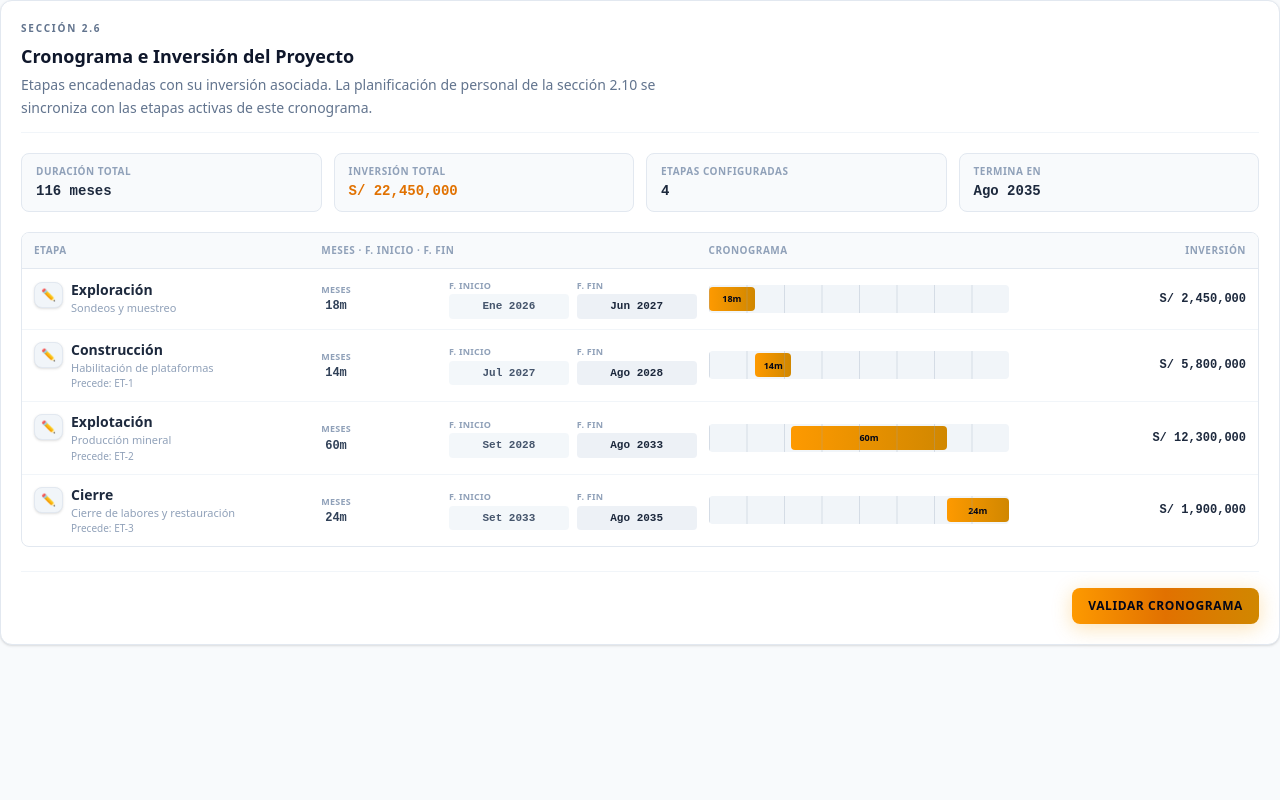
it: CronogramaComponent › fechas calendario › deja la fecha de inicio editable solo en la etapa ancla
The image size is (1280, 800).
Click the button with class "boton-editar" next to "Construcción".
click(48, 354)  # box [34, 342, 63, 368]
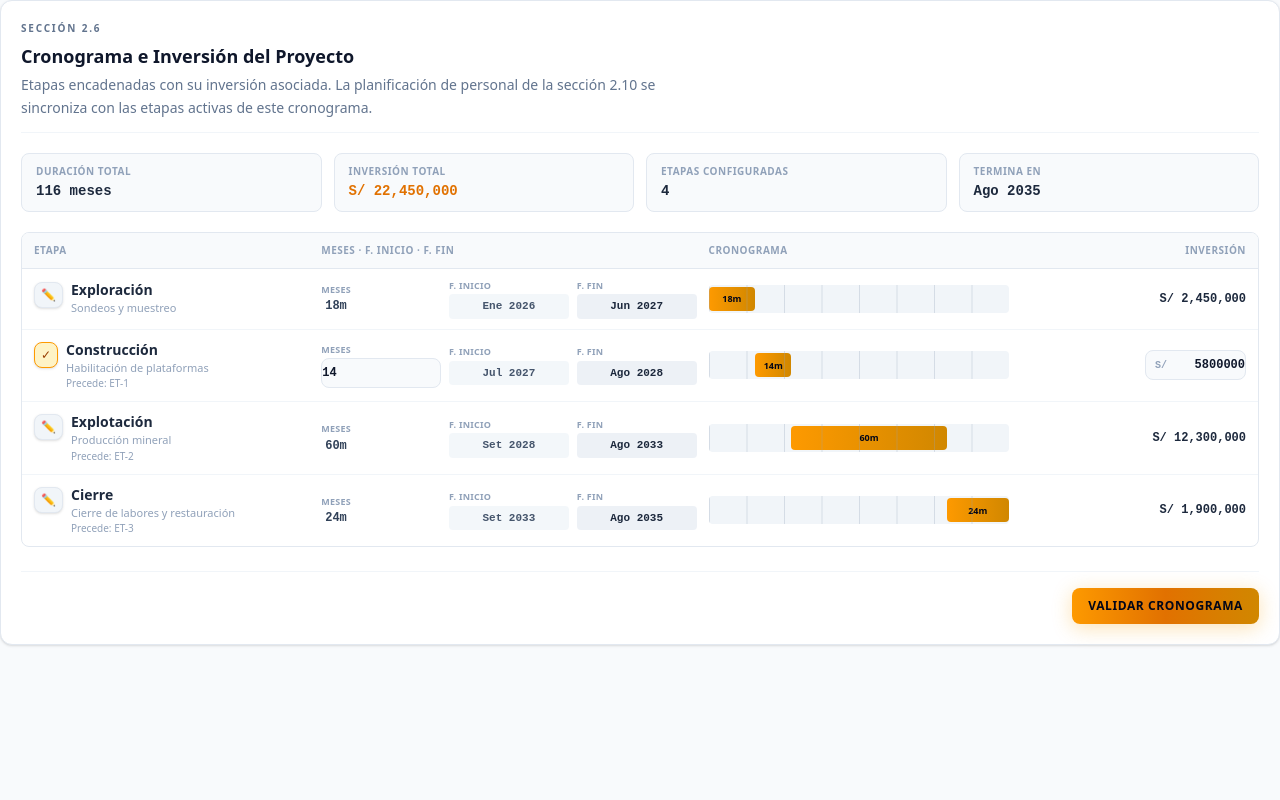
Click the button with class "boton-editar" next to "Exploración".
click(48, 295)  # box [34, 282, 63, 308]
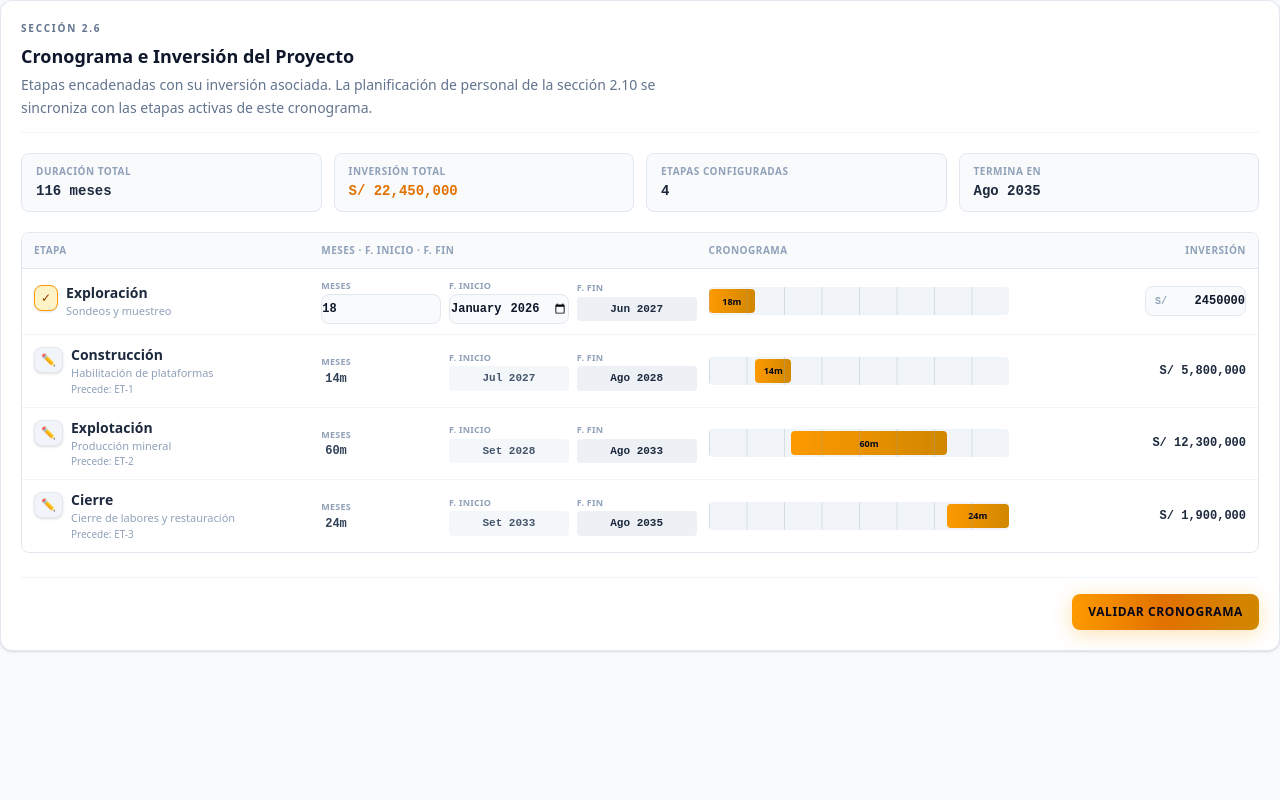
expect the number of fields is 1: met, box [449, 294, 569, 324]
